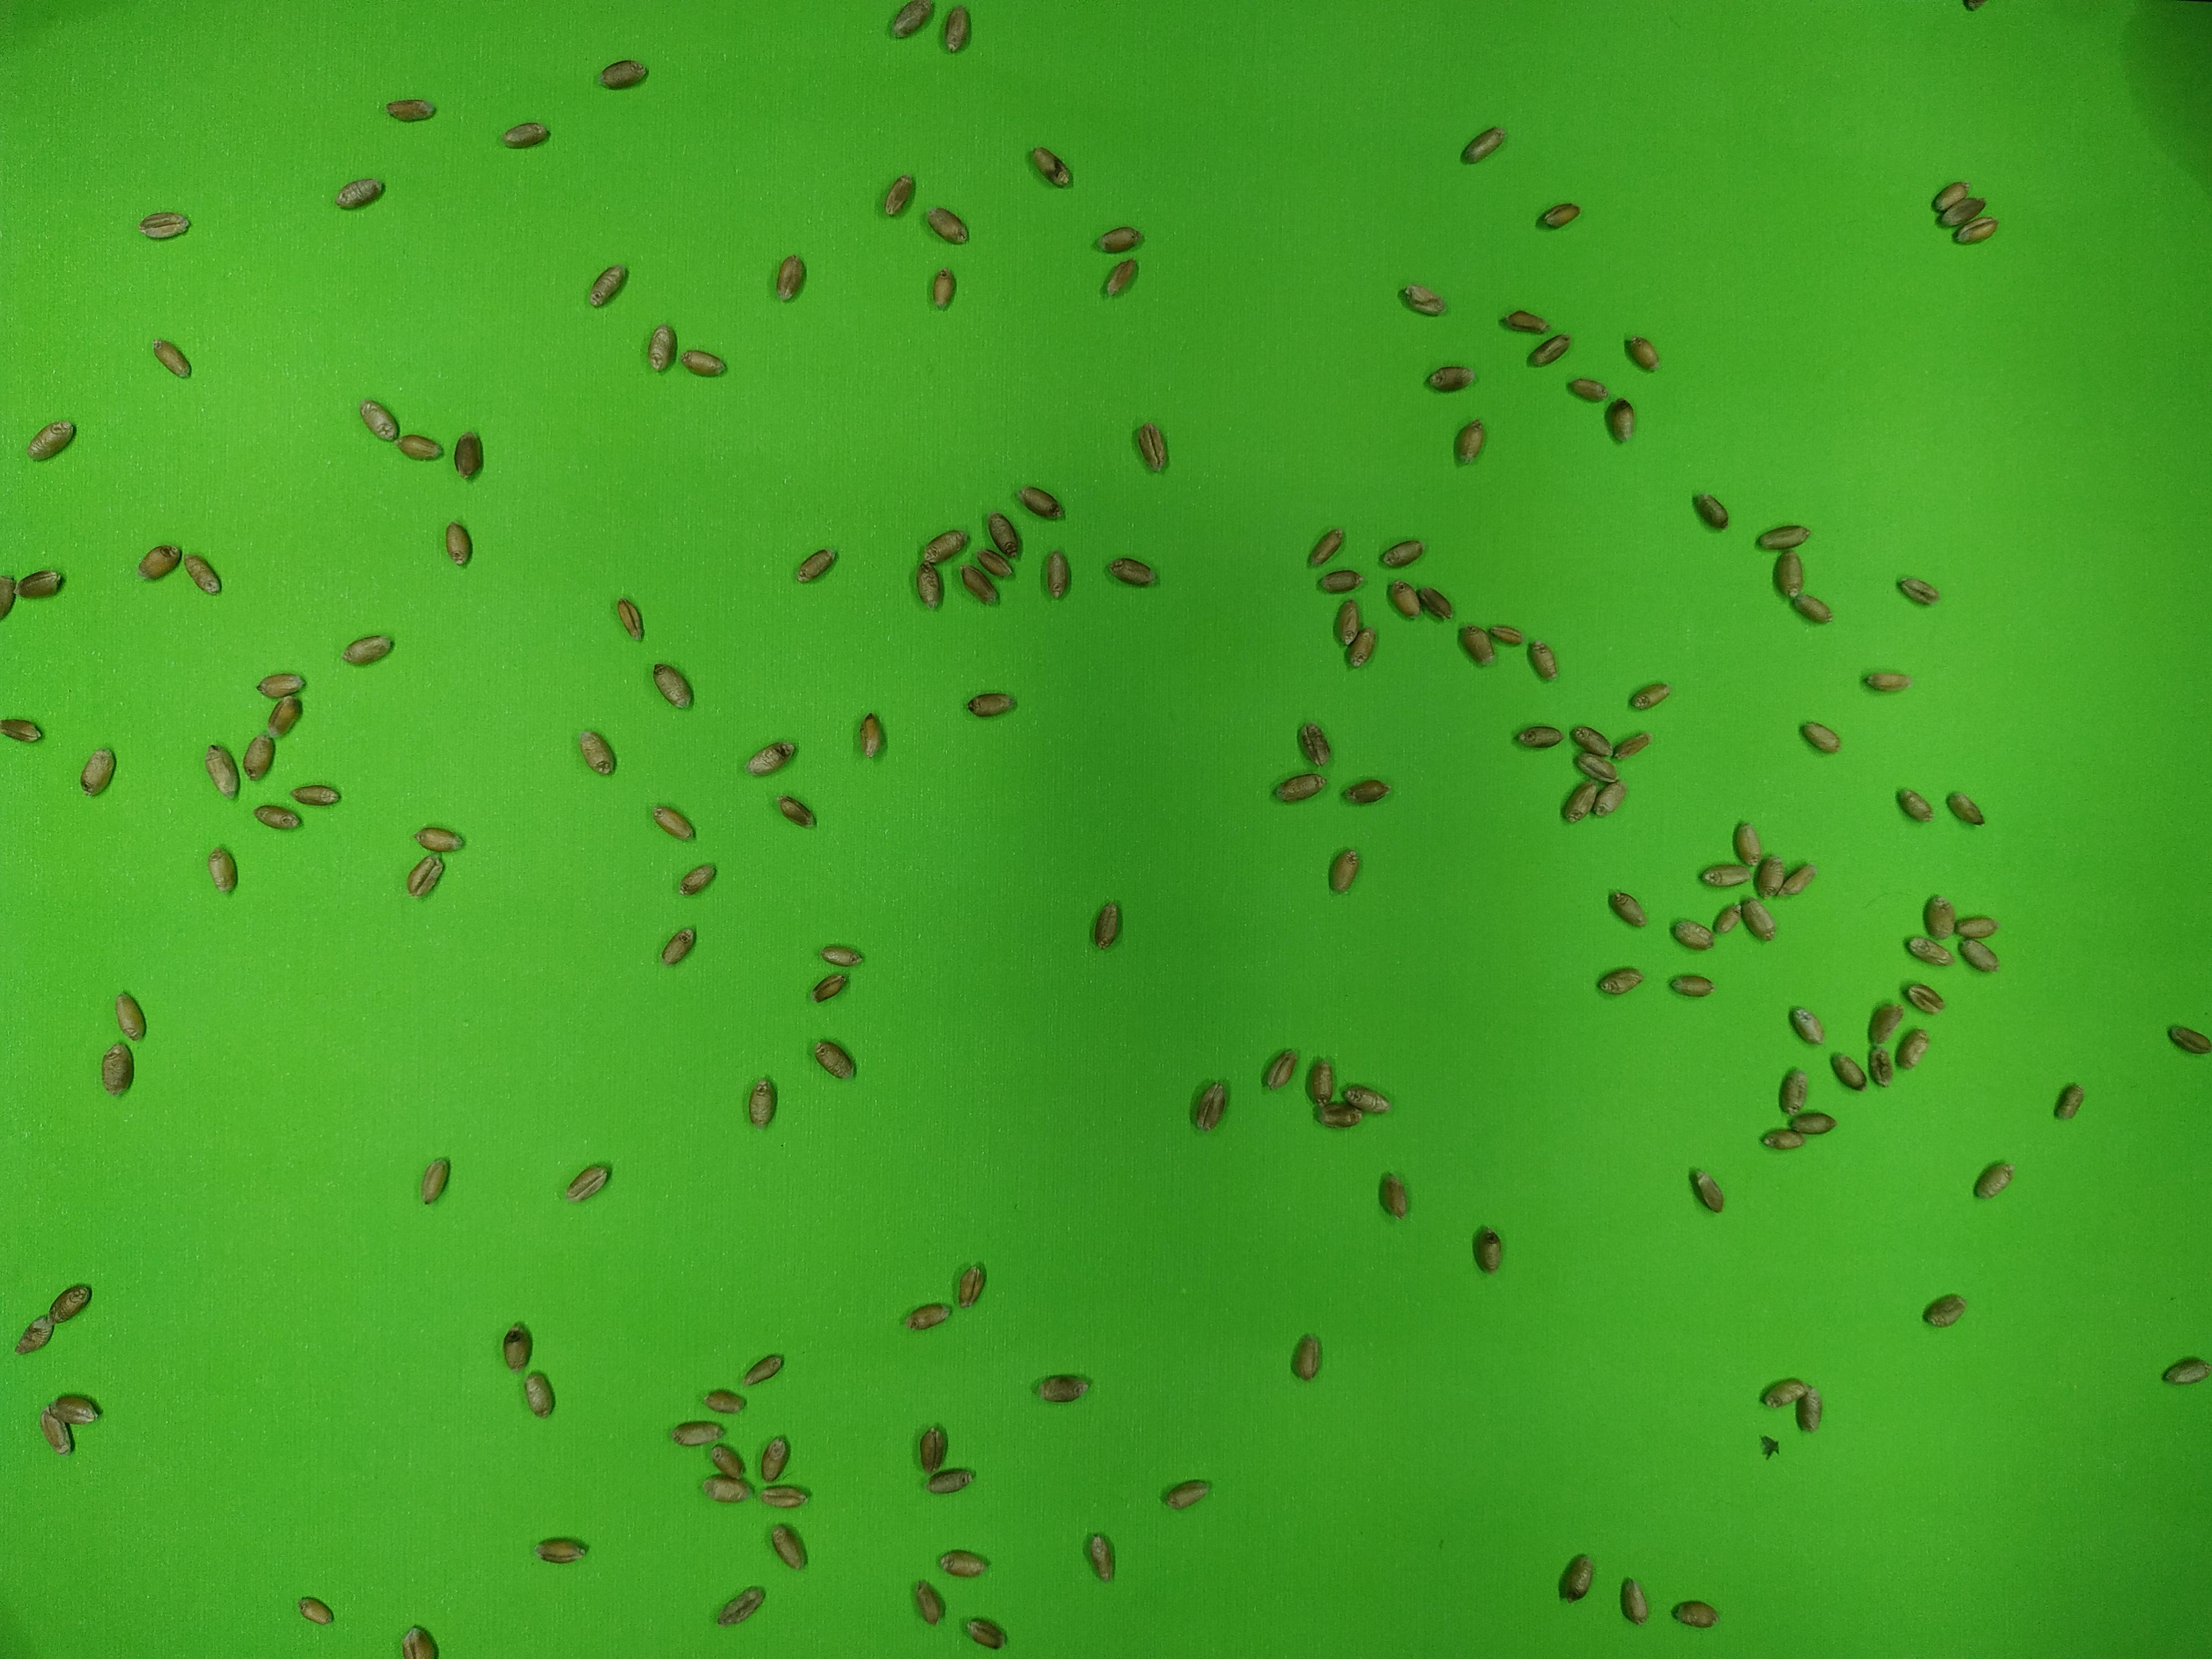bueno: (1285, 1331, 1329, 1384), (1853, 662, 1919, 695), (448, 427, 489, 479), (1935, 193, 1991, 232), (937, 2, 975, 56), (911, 558, 949, 612), (923, 204, 970, 247), (99, 1042, 136, 1098), (610, 594, 650, 645), (202, 742, 240, 795), (768, 1520, 805, 1574), (519, 1366, 556, 1420), (1325, 843, 1362, 897), (47, 1281, 92, 1324), (1688, 490, 1733, 533), (953, 561, 996, 606), (1561, 777, 1604, 823), (1919, 1290, 1966, 1331), (1555, 1553, 1595, 1601), (1026, 146, 1075, 186), (1527, 331, 1576, 371), (14, 1309, 54, 1358), (1129, 420, 1167, 471), (1372, 1171, 1411, 1222), (413, 819, 463, 857), (1919, 890, 1956, 943), (909, 1575, 946, 1628), (644, 319, 678, 376), (585, 265, 629, 308), (812, 1037, 855, 1080), (179, 554, 225, 596), (136, 538, 181, 580), (564, 1162, 610, 1204), (1893, 1026, 1935, 1072), (1101, 254, 1143, 300), (1381, 582, 1428, 622), (439, 516, 474, 570), (1294, 720, 1332, 769), (651, 659, 690, 708), (1524, 634, 1561, 685), (984, 509, 1021, 559), (745, 1077, 779, 1133), (1973, 1161, 2015, 1204), (1040, 549, 1075, 601), (1303, 1056, 1338, 1108), (206, 842, 240, 894), (30, 418, 75, 458), (355, 399, 401, 439), (1797, 718, 1843, 758), (888, 0, 934, 40), (1688, 1168, 1726, 1215), (1956, 936, 2003, 974), (577, 728, 615, 775), (773, 249, 806, 303), (1191, 1082, 1228, 1131), (268, 690, 305, 739), (51, 1392, 101, 1427), (756, 1434, 791, 1485), (1035, 1370, 1085, 1405), (880, 171, 914, 221), (340, 633, 390, 667), (1573, 742, 1615, 784), (1332, 594, 1364, 650), (1777, 1065, 1808, 1121), (404, 854, 444, 897), (1261, 1049, 1299, 1094), (1085, 1530, 1118, 1582), (1792, 1385, 1829, 1432), (1602, 396, 1639, 443), (40, 1410, 77, 1457), (1670, 917, 1717, 953), (744, 741, 792, 775), (82, 748, 117, 796), (1615, 1579, 1649, 1628), (416, 1155, 451, 1204), (111, 992, 146, 1040), (1346, 620, 1378, 674), (2050, 1080, 2090, 1122), (150, 338, 192, 378), (2161, 1354, 2212, 1387), (1514, 721, 1564, 755), (1106, 554, 1157, 587), (1730, 817, 1763, 868), (138, 209, 188, 242), (937, 1546, 988, 1579), (650, 802, 693, 840), (674, 861, 718, 899), (1867, 999, 1904, 1044), (336, 173, 381, 209), (1451, 420, 1487, 465), (716, 1586, 763, 1621), (1789, 1004, 1824, 1051), (1785, 1108, 1838, 1140), (1773, 549, 1804, 601), (242, 732, 277, 779), (1534, 199, 1583, 232), (1090, 899, 1123, 948), (678, 347, 726, 380), (1472, 1225, 1505, 1274), (1273, 770, 1322, 803), (1672, 1598, 1721, 1631), (399, 1619, 439, 1659), (1458, 624, 1498, 664), (1313, 1094, 1355, 1133), (1306, 528, 1345, 570), (798, 542, 836, 584), (812, 941, 866, 971), (1413, 584, 1456, 620), (535, 1535, 585, 1567), (855, 711, 887, 762), (1756, 850, 1787, 901), (256, 669, 307, 701), (1339, 775, 1390, 807), (498, 1326, 533, 1371), (1461, 127, 1507, 162), (2167, 1023, 2212, 1058), (1426, 361, 1474, 394), (1763, 1377, 1810, 1410), (904, 1298, 951, 1331), (1862, 1042, 1895, 1089), (1163, 1476, 1211, 1509), (960, 1615, 1007, 1649), (1379, 537, 1426, 570), (1594, 777, 1632, 817), (1904, 936, 1952, 967), (704, 1471, 745, 1507), (974, 542, 1015, 579), (1341, 1086, 1390, 1117), (1402, 281, 1444, 317), (1019, 484, 1061, 521), (925, 526, 968, 561), (1096, 223, 1141, 256), (597, 61, 648, 91), (671, 1419, 721, 1448), (291, 779, 341, 809), (251, 803, 301, 833), (1625, 680, 1672, 711), (1606, 889, 1646, 925), (707, 1443, 744, 1483), (1831, 1053, 1867, 1093), (1944, 789, 1984, 826), (1932, 181, 1973, 216), (1695, 863, 1747, 890), (1895, 786, 1930, 828), (1742, 899, 1777, 941), (1904, 981, 1946, 1016), (1500, 307, 1548, 336), (502, 120, 550, 150), (1318, 563, 1362, 596), (1893, 573, 1939, 605), (1789, 592, 1834, 624), (810, 969, 846, 1007), (1754, 525, 1811, 549), (17, 570, 64, 599), (1609, 732, 1651, 765), (756, 1483, 808, 1509), (1954, 214, 1998, 246), (920, 1425, 948, 1474), (965, 690, 1014, 718), (385, 96, 434, 124), (394, 432, 442, 460), (1761, 1124, 1806, 1154), (1952, 911, 1998, 941), (700, 1387, 745, 1417), (1780, 859, 1817, 896), (660, 927, 693, 967), (1667, 972, 1717, 999), (1569, 723, 1611, 755), (1595, 965, 1637, 997), (954, 1263, 984, 1307), (1564, 375, 1608, 404), (1709, 903, 1747, 936), (775, 793, 813, 826), (745, 1352, 784, 1385), (298, 1593, 333, 1628), (0, 716, 44, 744), (1623, 338, 1660, 371), (1486, 620, 1527, 648), (927, 1469, 974, 1493), (928, 268, 954, 312)
impureza: (1756, 1429, 1785, 1466)
